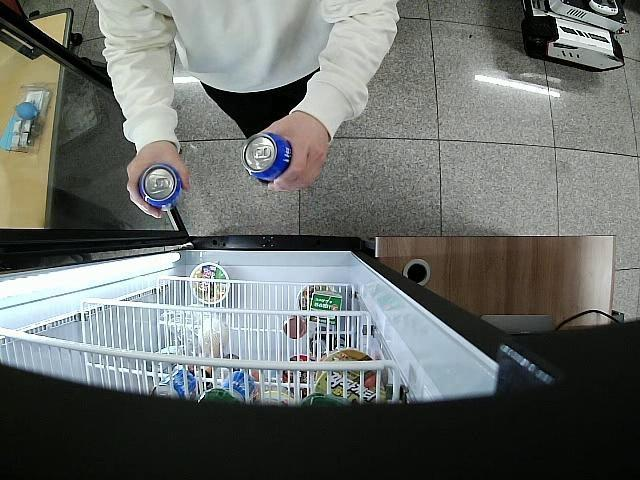13_pocariSweat: (242, 131, 292, 184), (136, 163, 183, 208)
